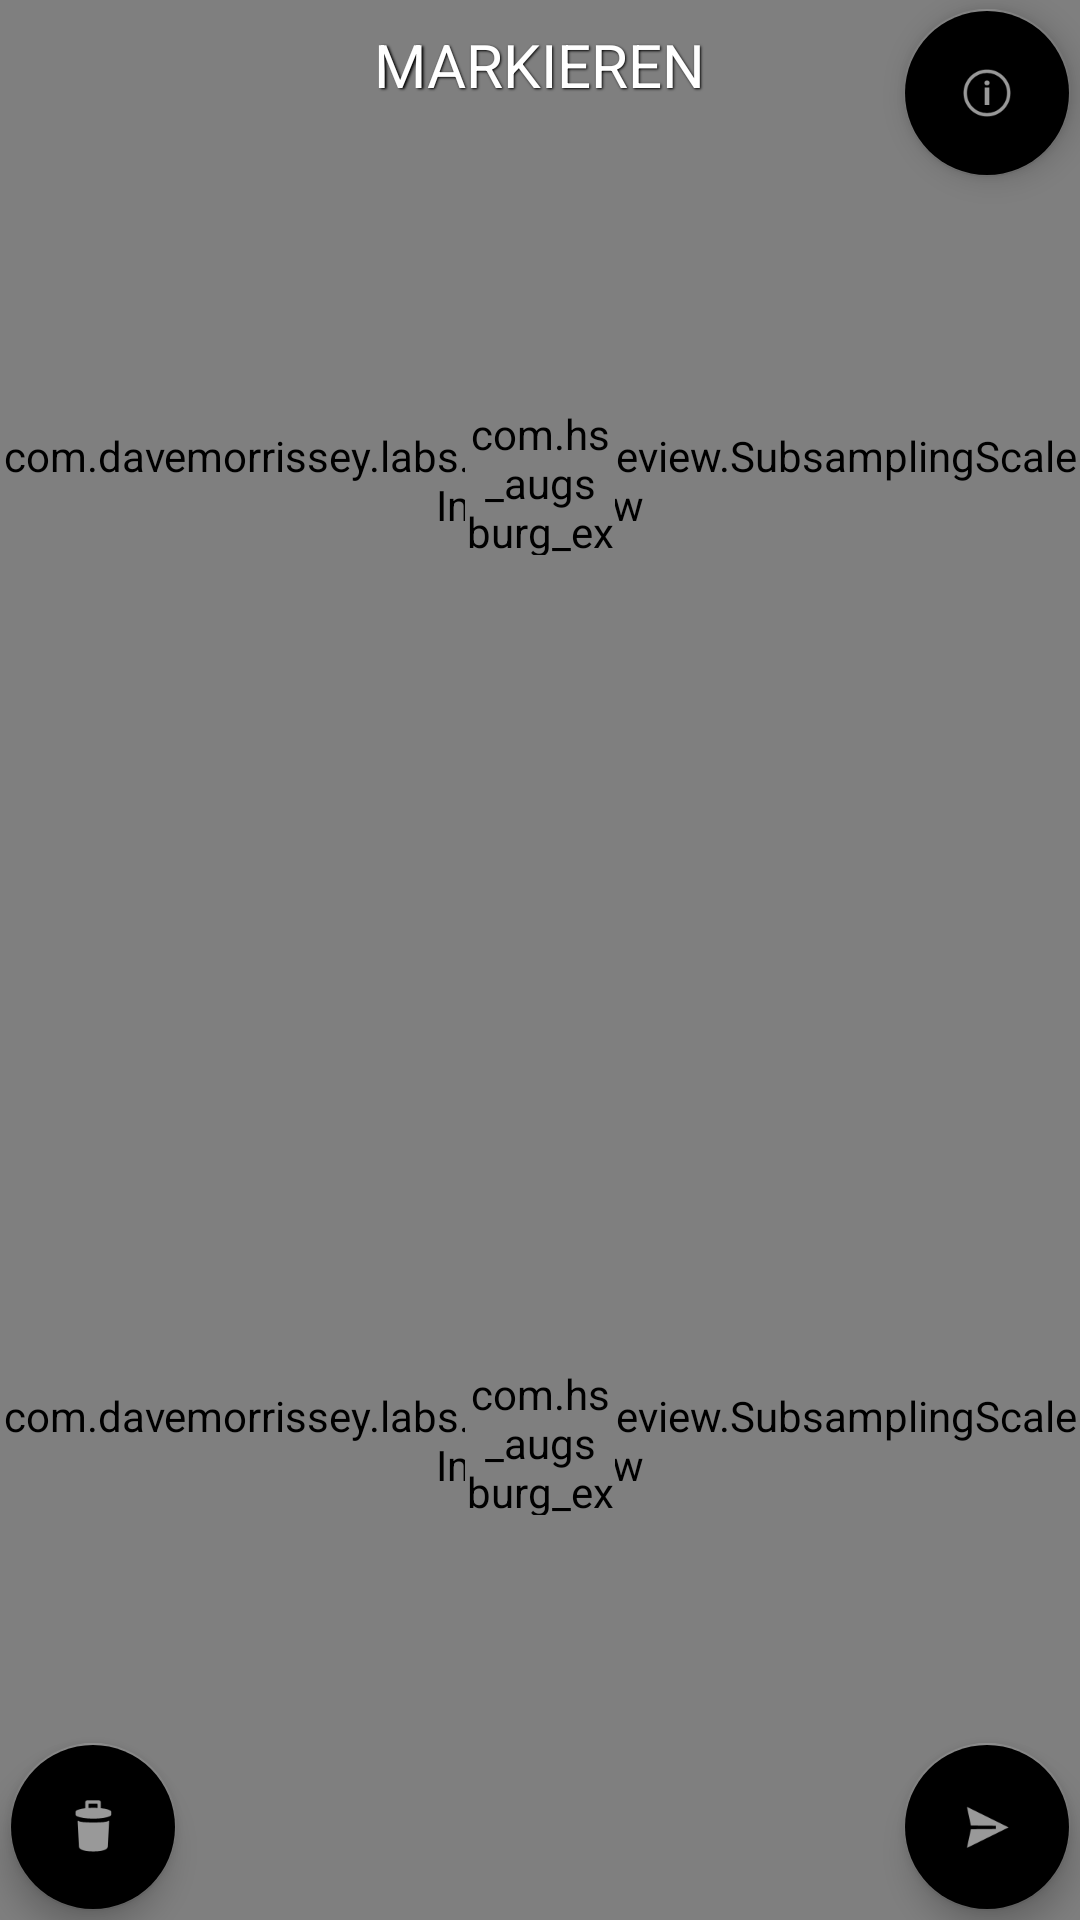

Named icons in this screenshot (1080px×1920px) and their bounding boxes, [x1=x1, y1=y1, x2=x2, y2=y2]:
delete: [x1=11, y1=1745, x2=175, y2=1911]
info details: [x1=905, y1=11, x2=1069, y2=175]
send: [x1=905, y1=1745, x2=1069, y2=1911]
